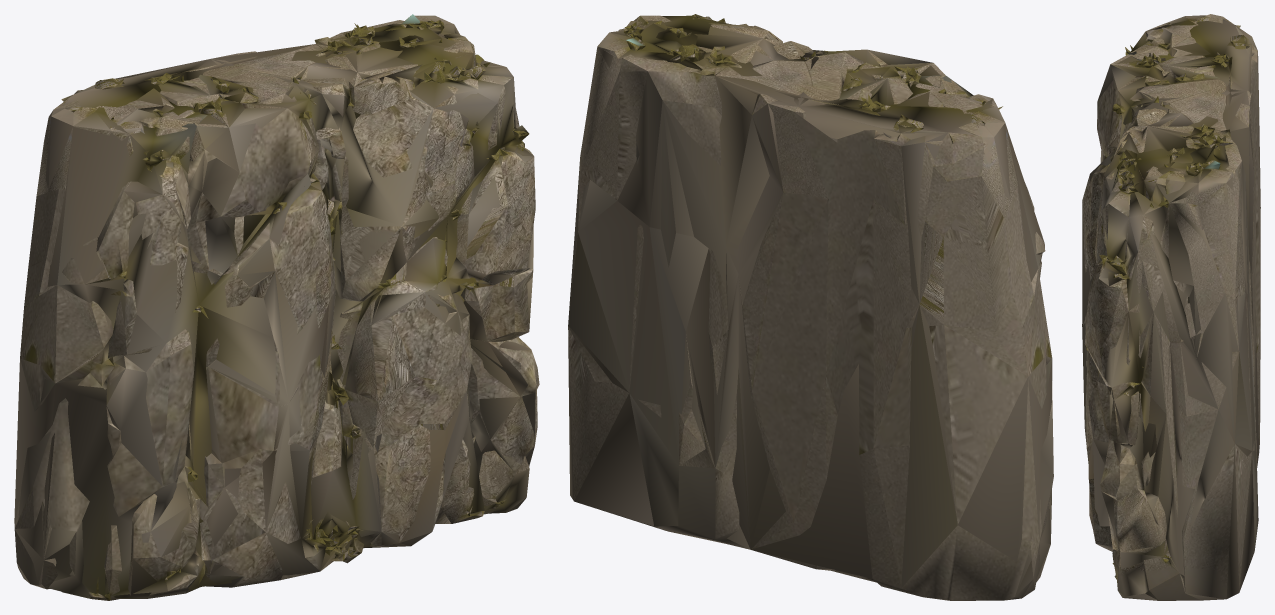
The model's file is pared_grietas.glb.
The picture shows the model from 3 angles, left to right: view 1: azimuth 30°, elevation 25°; view 2: azimuth 150°, elevation 25°; view 3: azimuth 270°, elevation 25°; orthographic projection. The views are drawn at different scales.
Visible parts, largest first — view 1: cerca, lejos, medio; view 2: cerca, medio, lejos; view 3: cerca, medio, lejos.
Boxes of the visible parts, x1,y1,x2,y2 form: cerca: (14,15,539,600); lejos: (14,23,535,595); medio: (17,14,533,598); cerca: (568,14,1053,600); medio: (568,14,1053,598); lejos: (568,16,1052,595); cerca: (1082,14,1260,600); medio: (1082,16,1258,600); lejos: (1082,19,1259,569).
Size of the model in its own units: 4.2 by 3.97 by 1.54.
Materials: 2 (1 with a texture image).
